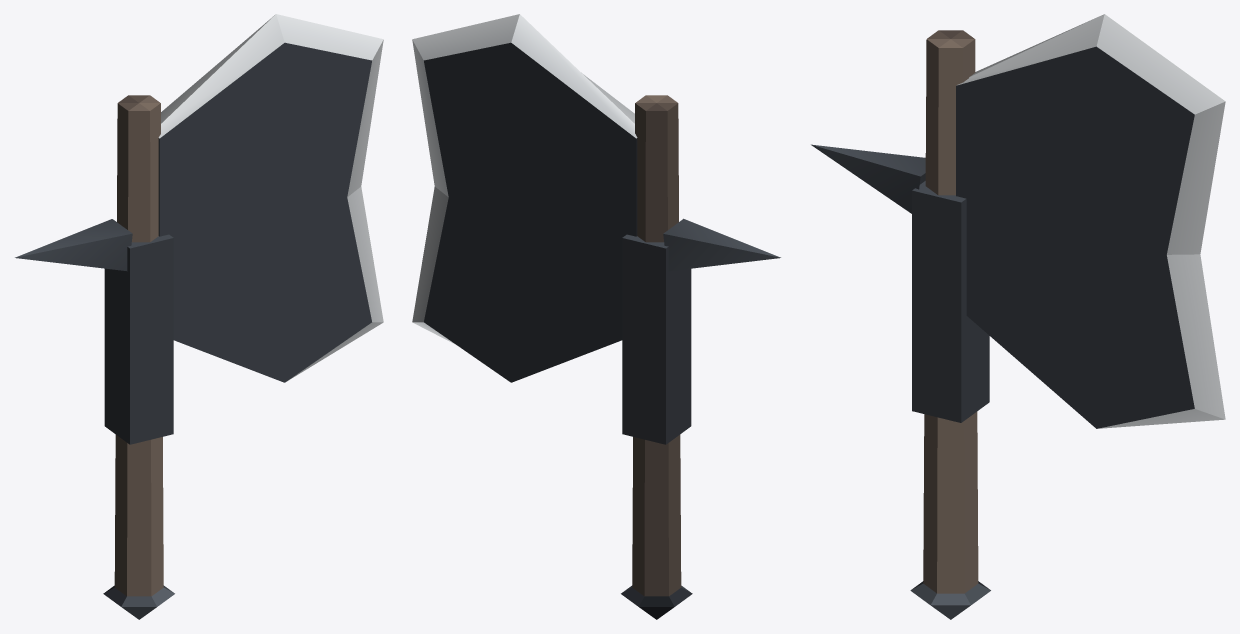
Rendered from ammo_axe.gltf.
3 views of the same model, side by side, from view 1: azimuth 30°, elevation 25°; view 2: azimuth 150°, elevation 25°; view 3: azimuth 330°, elevation 25° (orthographic). The views are drawn at different scales.
Parts seen in each view (by area): view 1: ammo_axe; view 2: ammo_axe; view 3: ammo_axe.
Part boxes in pixels (<box>): ammo_axe: <box>15,14,383,619</box>; ammo_axe: <box>412,14,780,619</box>; ammo_axe: <box>811,14,1225,619</box>.
Size of the model in its own units: 0.5912 by 0.8752 by 0.1.
1 material, 1 textured.
